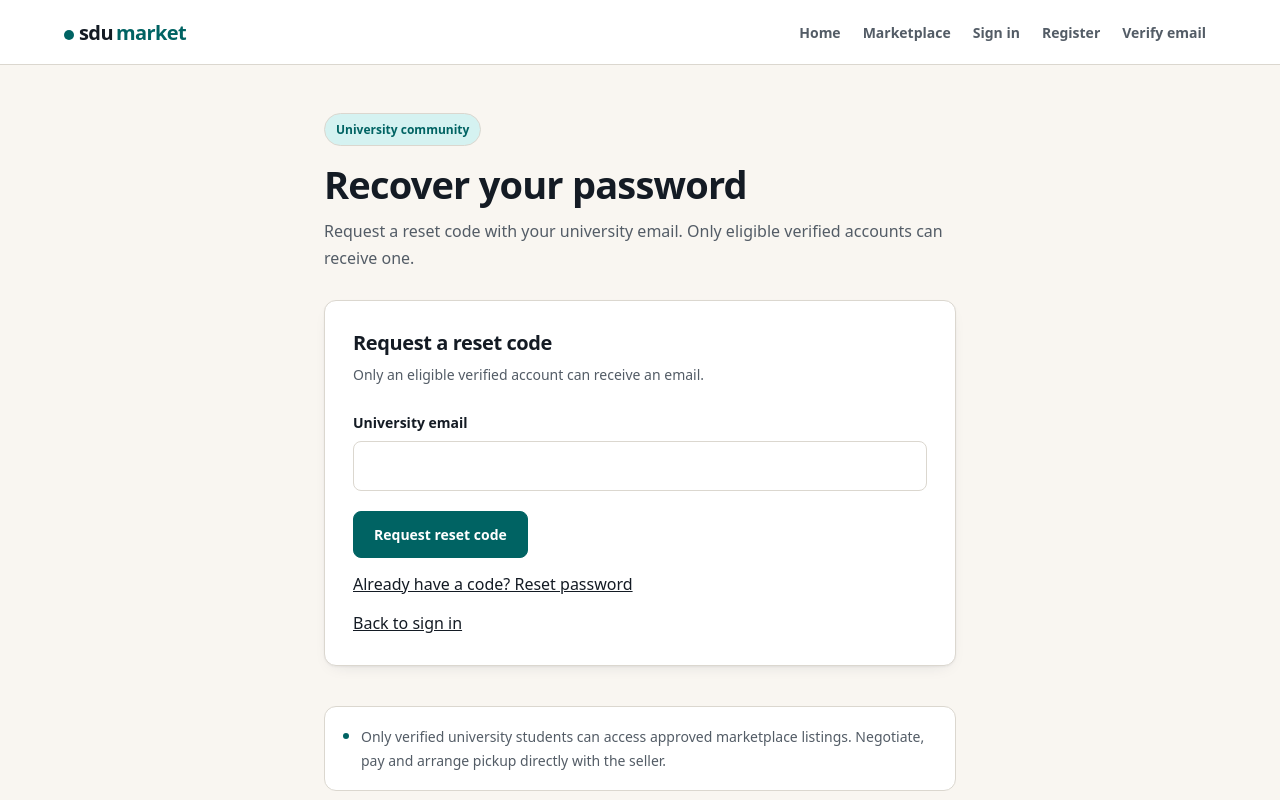
Test: generic recovery feedback, cooldown and memory-only email handoff do not guarantee delivery
The width and height of the screenshot is (1280, 800).
Type " Student@SDU.EDU.KZ " into the field labelled "University email".
click(640, 466); type(" Student@SDU.EDU.KZ ")  # box [353, 441, 927, 491]
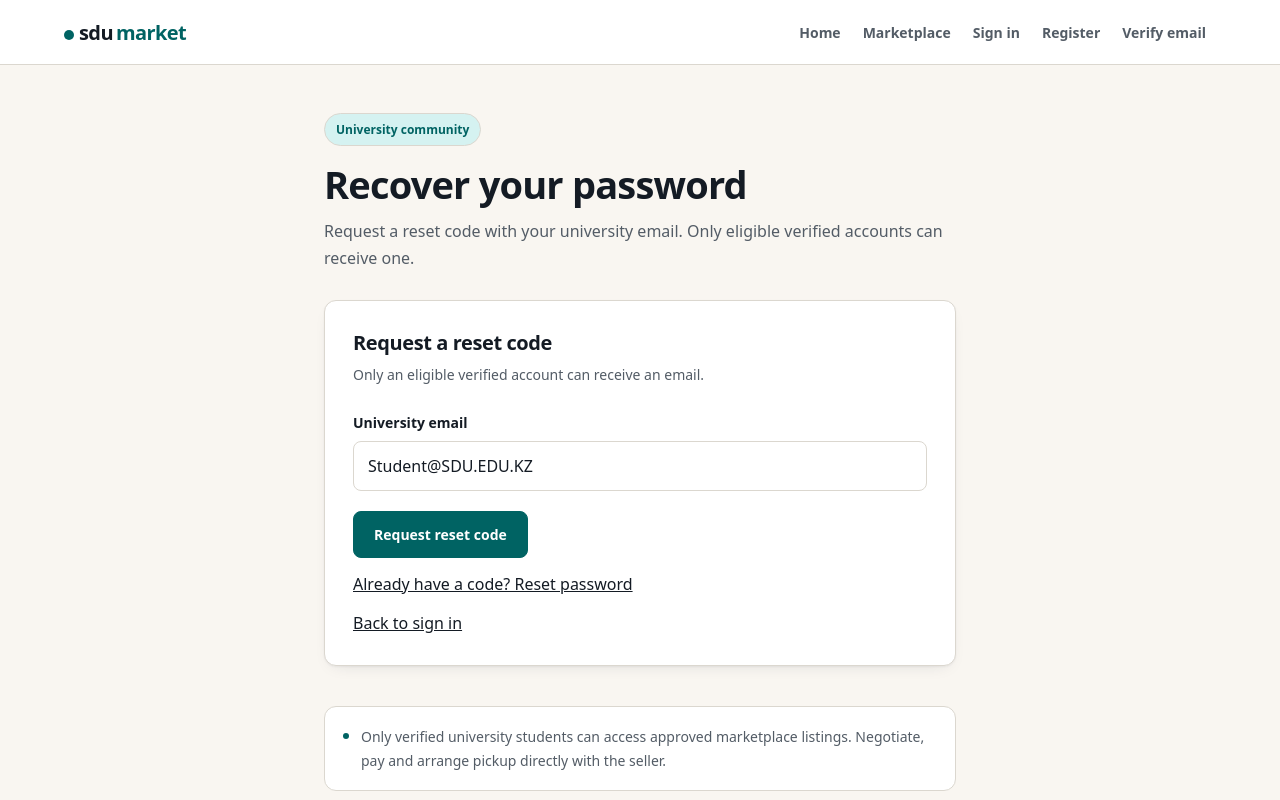
Submit the form named "Password recovery", box [324, 300, 956, 666]
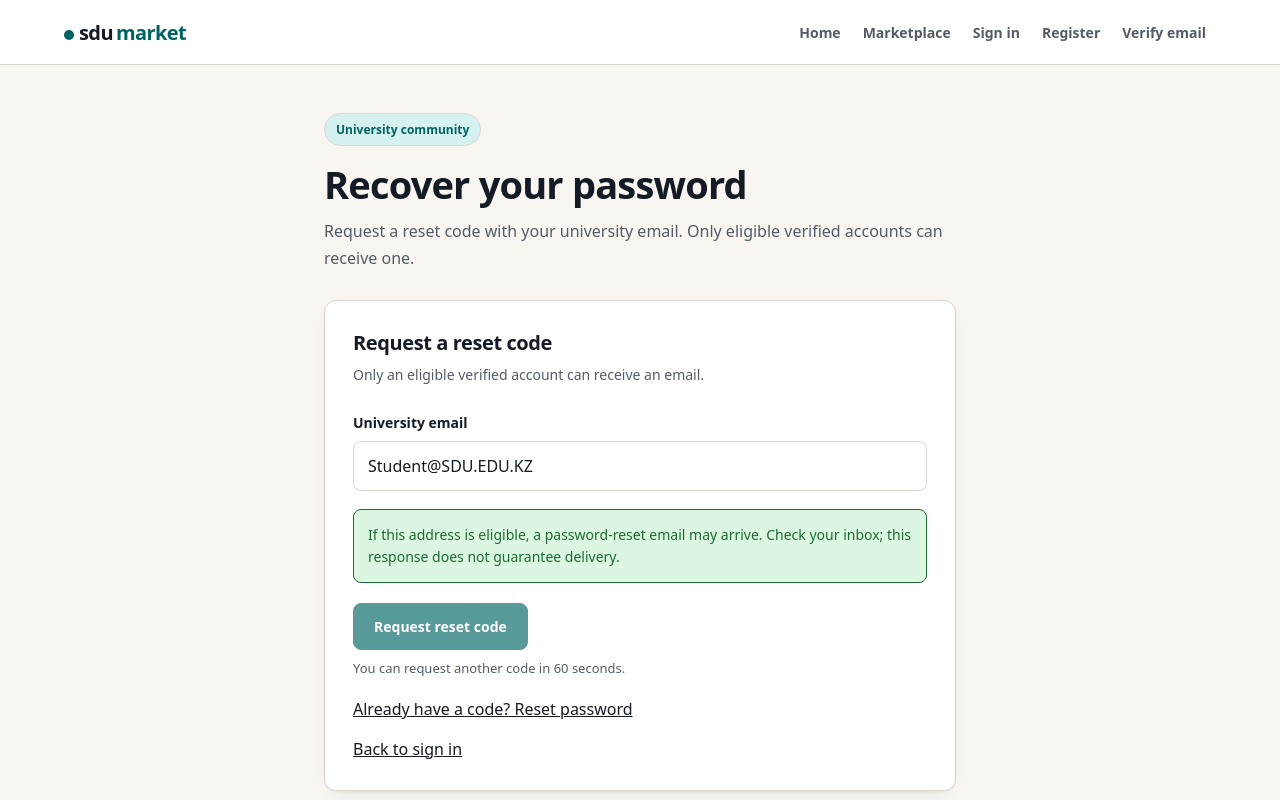
Result: the message shows "does not guarantee delivery" at [368, 525, 911, 566]
Result: the text "You can request another code in 60 seconds." is shown at [353, 658, 625, 679]
Submit the form named "Password recovery", box [324, 300, 956, 791]
Wait 60000 ms
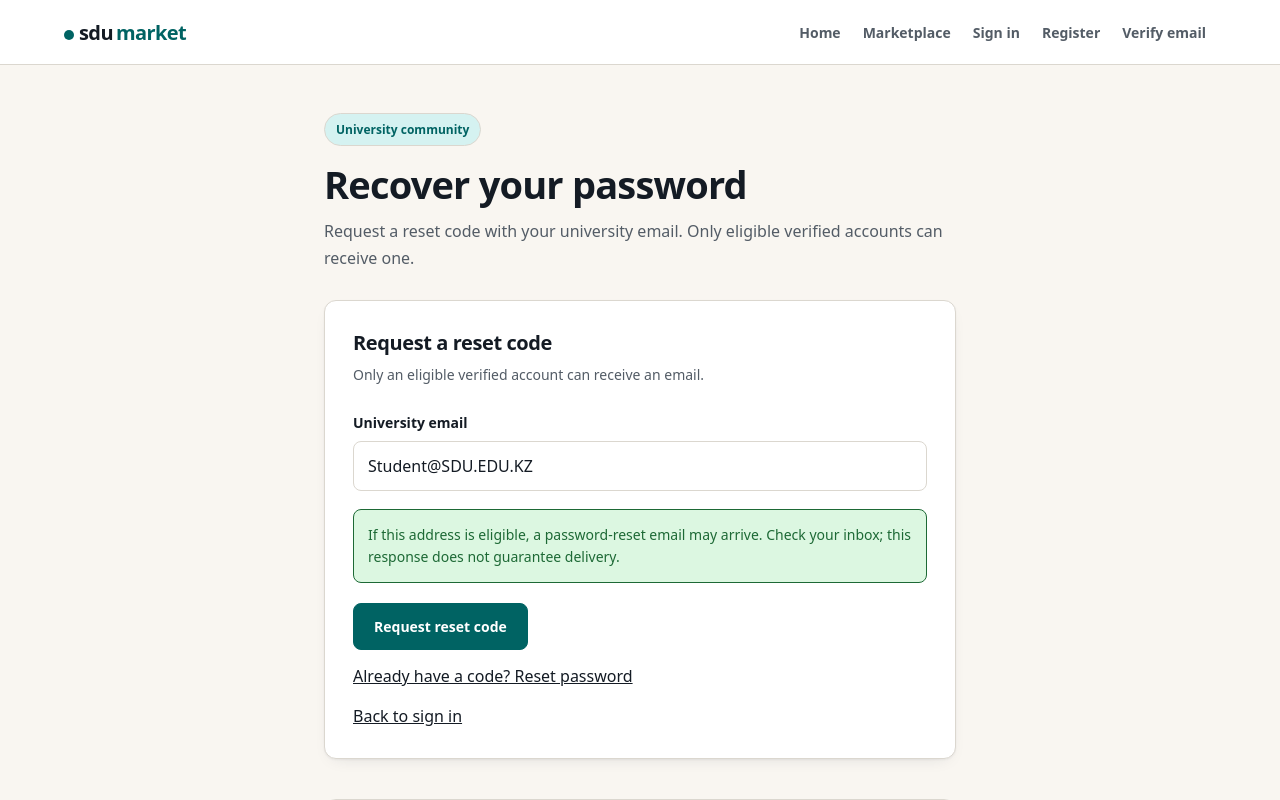
Result: the button "Request reset code" is enabled at [353, 603, 528, 650]
Click the link "Already have a code? Reset password".
click(493, 677)  # box [353, 664, 633, 690]
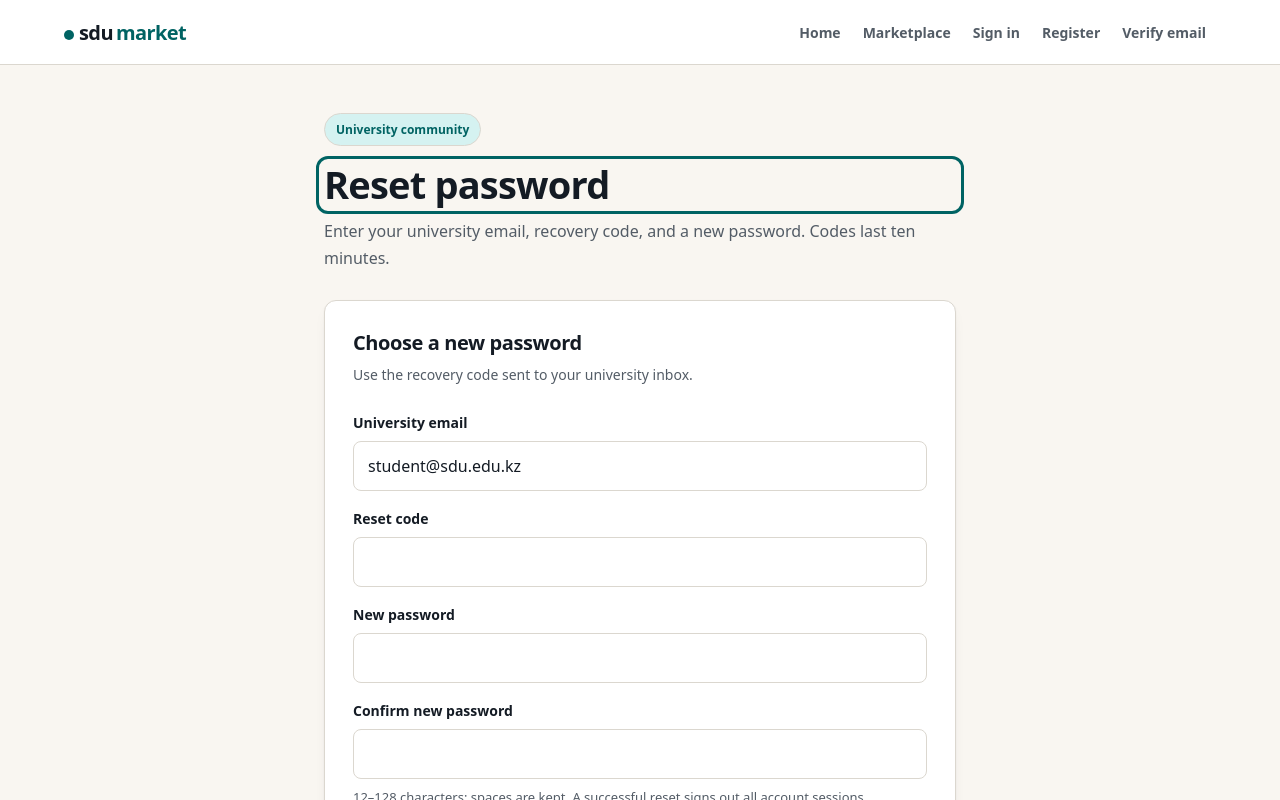
Result: the field labelled "University email" holds "student@sdu.edu.kz" at [353, 441, 927, 491]
